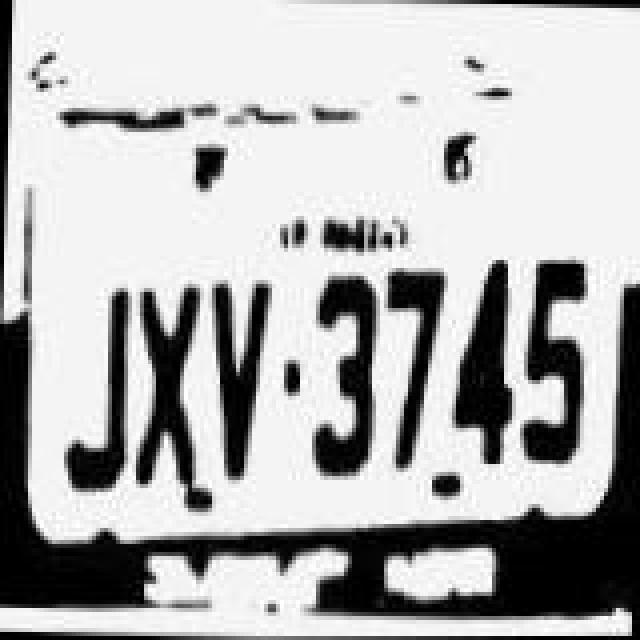3: (300, 258, 384, 498)
4: (446, 250, 526, 478)
5: (516, 238, 592, 474)
7: (370, 262, 442, 478)
J: (54, 278, 134, 514)
V: (196, 276, 272, 492)
X: (130, 268, 202, 488)
